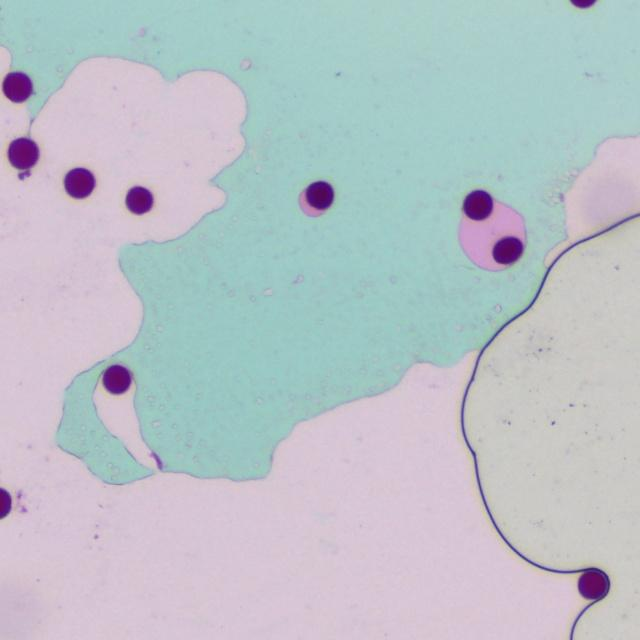viable: (64, 167, 95, 198), (578, 569, 608, 599), (8, 138, 38, 168), (463, 190, 492, 220), (3, 72, 32, 102), (493, 236, 523, 264), (103, 365, 131, 393), (126, 186, 153, 214), (306, 181, 333, 209), (0, 488, 11, 518), (570, 0, 596, 8)
